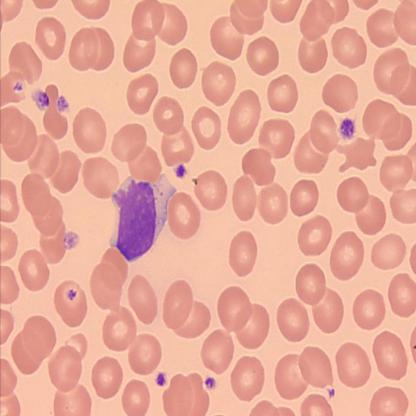Atypical lymphocyte: (111, 178, 174, 258)
